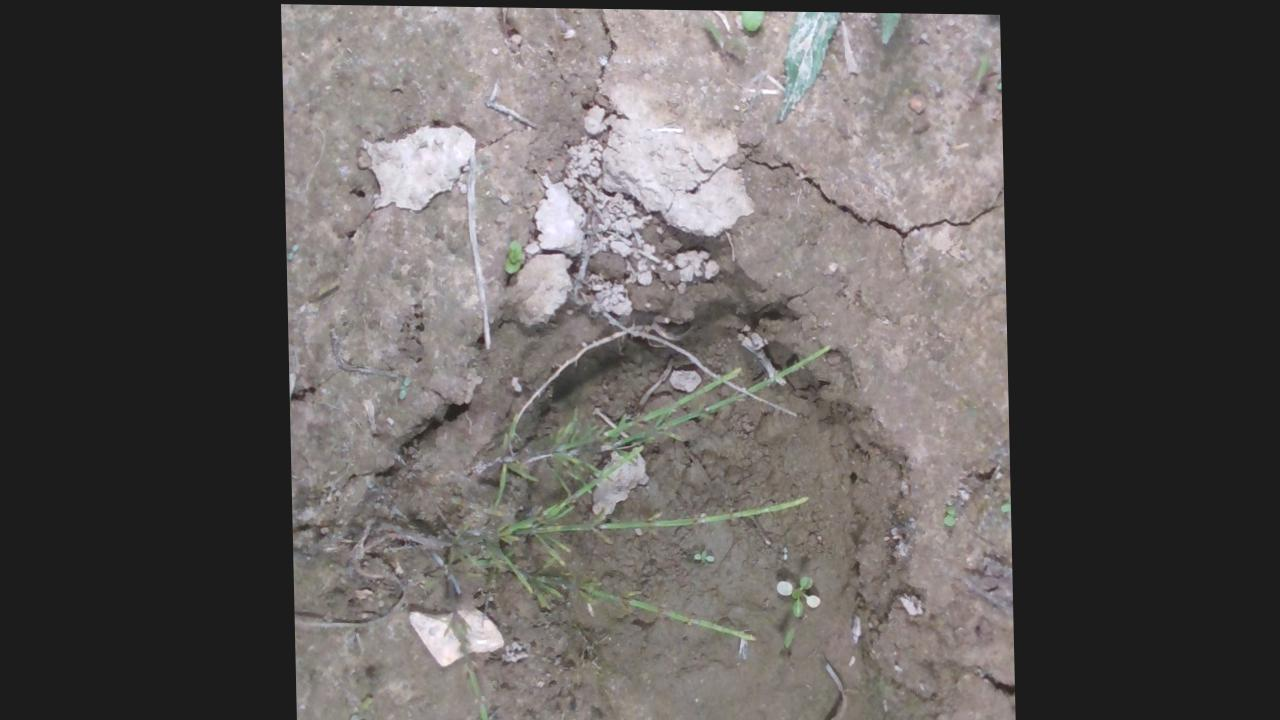weed: (773, 570, 817, 612), (503, 234, 526, 275), (740, 9, 779, 32)
